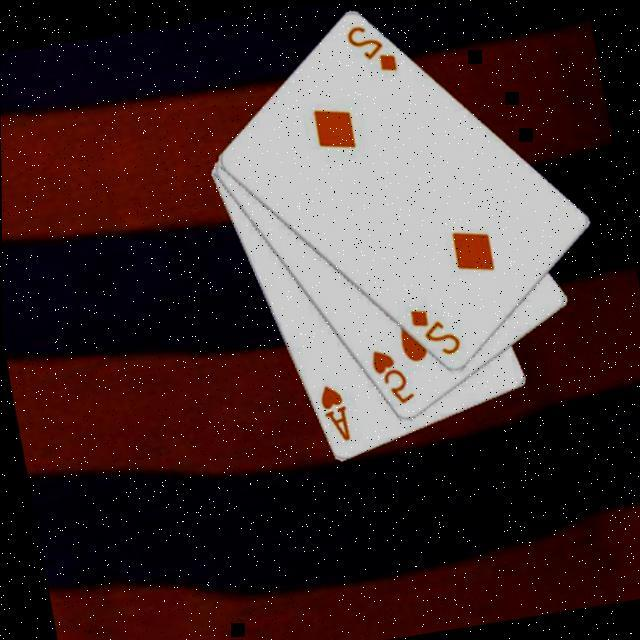2D: (341, 14, 402, 79), (406, 296, 464, 360)
5H: (366, 338, 418, 409)
AH: (314, 376, 355, 444)
